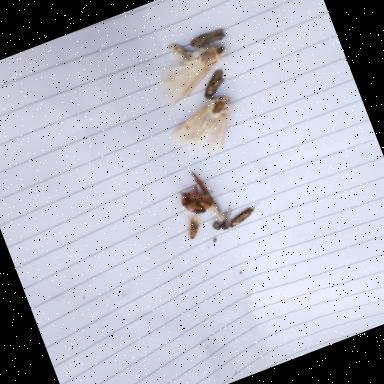abw: (142, 24, 240, 112), (161, 91, 251, 169)
pbw: (194, 68, 236, 105), (188, 24, 234, 54), (226, 204, 266, 230), (181, 213, 207, 242)
